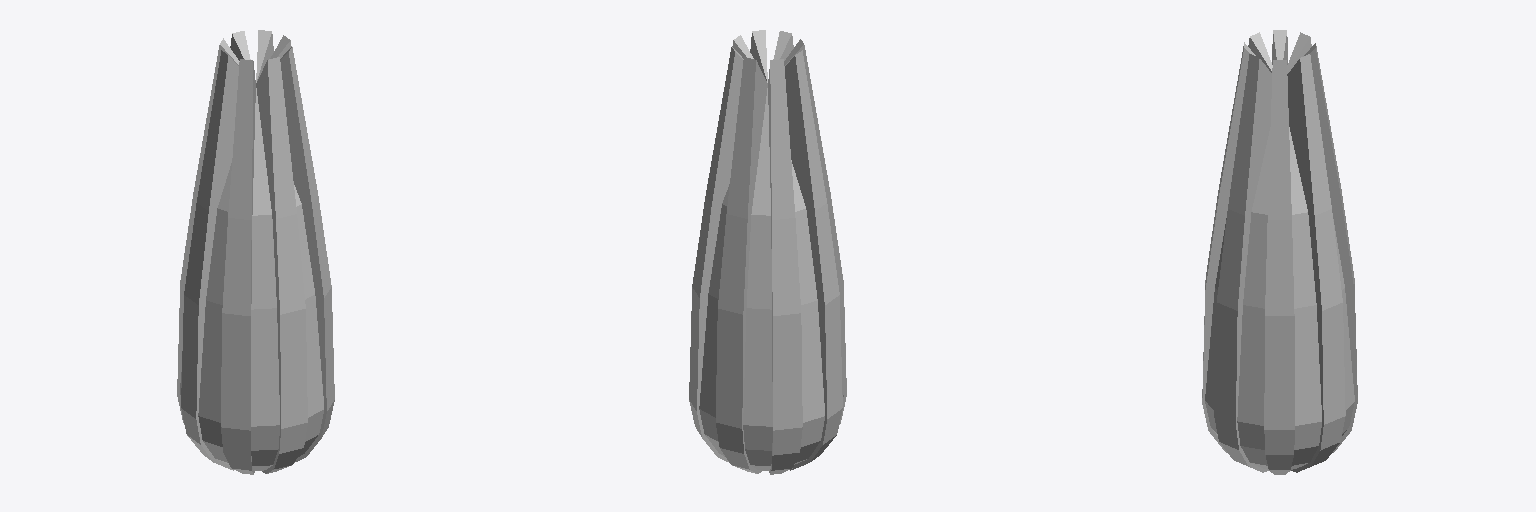
Rendered from obelisk.obj.
The picture shows the model from 3 angles: view 1: azimuth 30°, elevation 25°; view 2: azimuth 150°, elevation 25°; view 3: azimuth 270°, elevation 25°; orthographic projection.
Visible parts, largest first — view 1: Obelisk; view 2: Obelisk; view 3: Obelisk.
Boxes of the visible parts, x1=… form: Obelisk: x1=177, y1=30, x2=334, y2=474; Obelisk: x1=689, y1=30, x2=846, y2=474; Obelisk: x1=1202, y1=30, x2=1357, y2=474.
Bounding box in the file's own units: 2.03 × 6.08 × 2.03.